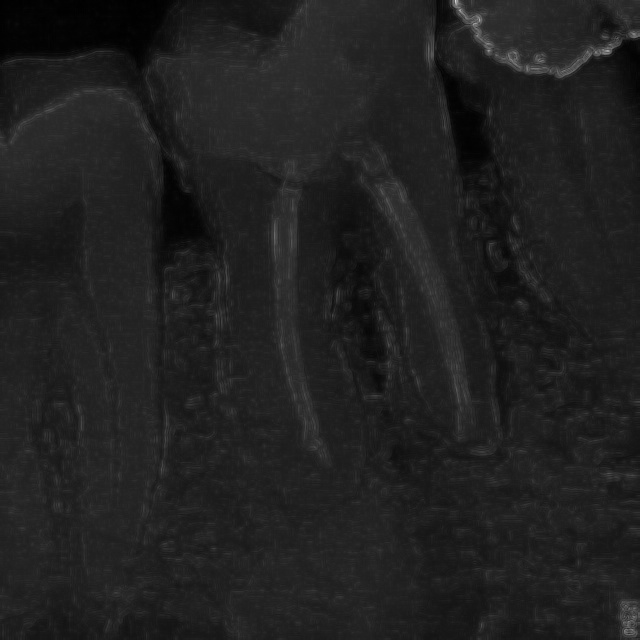Class 0- No endodontic treatment: (137, 64, 587, 556)
cavity: (438, 2, 640, 418)
